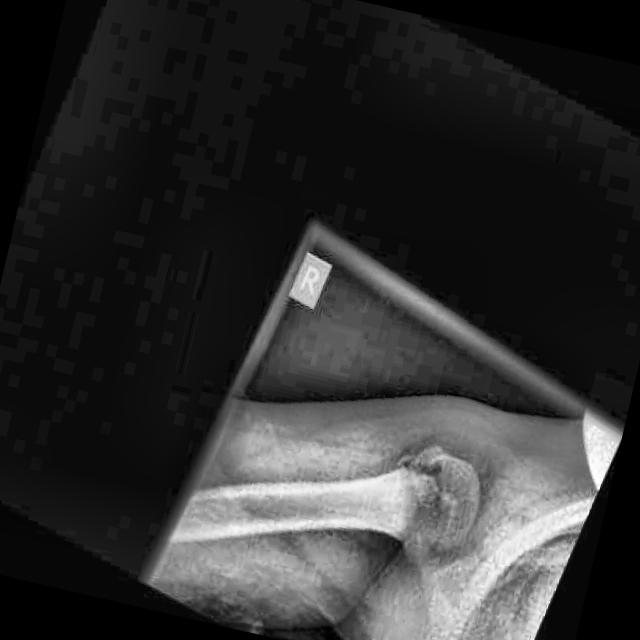shoulder fracture: (363, 430, 466, 520)
